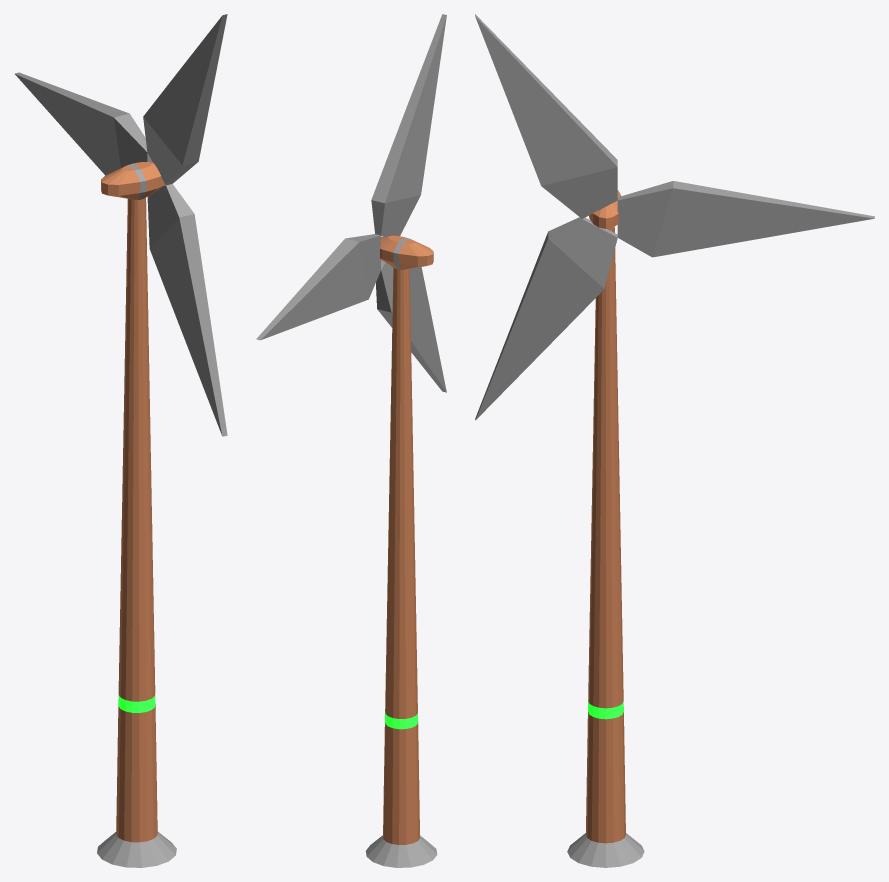
File: eolienne.glb
3 views of the same model, side by side, from view 1: azimuth 30°, elevation 25°; view 2: azimuth 150°, elevation 25°; view 3: azimuth 270°, elevation 25° (orthographic). The views are drawn at different scales.
Parts seen in each view (by area): view 1: Cylinder, eliceanim, Light; view 2: Cylinder, eliceanim; view 3: eliceanim, Cylinder.
Boxes of the visible parts, <box> form: Cylinder: <box>97,162,176,867</box>; eliceanim: <box>15,14,227,436</box>; Light: <box>118,694,155,712</box>; Cylinder: <box>366,235,437,867</box>; eliceanim: <box>256,14,446,392</box>; eliceanim: <box>475,14,874,420</box>; Cylinder: <box>567,190,644,867</box>.
Bounding box in the file's own units: 1.76 × 21.15 × 9.06.
